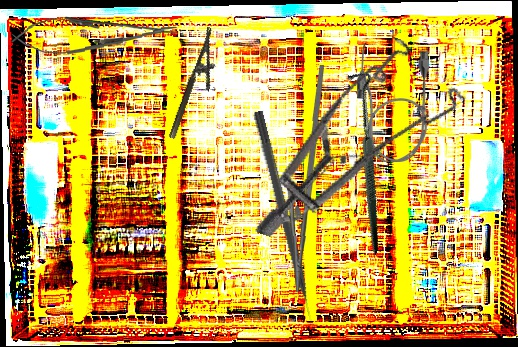Cannula: (357, 44, 429, 162)
Hook Surgical: (285, 66, 443, 256)
Needle Holder: (273, 65, 329, 292), (10, 10, 179, 59), (167, 26, 230, 145)
Pusher: (250, 110, 318, 329)
Speculum: (254, 14, 478, 282)
